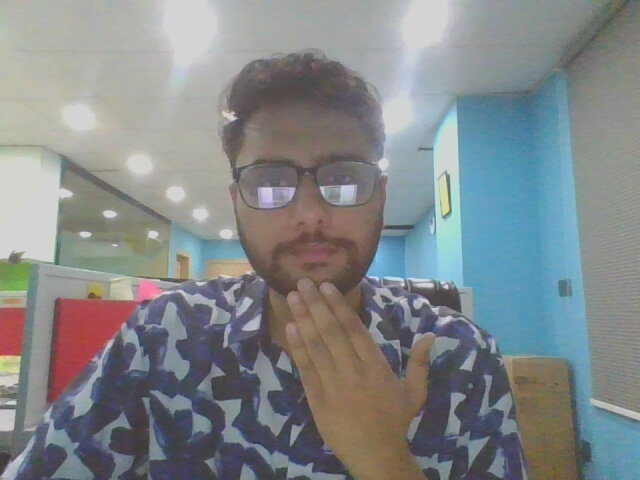thanks: (267, 278, 440, 470)
